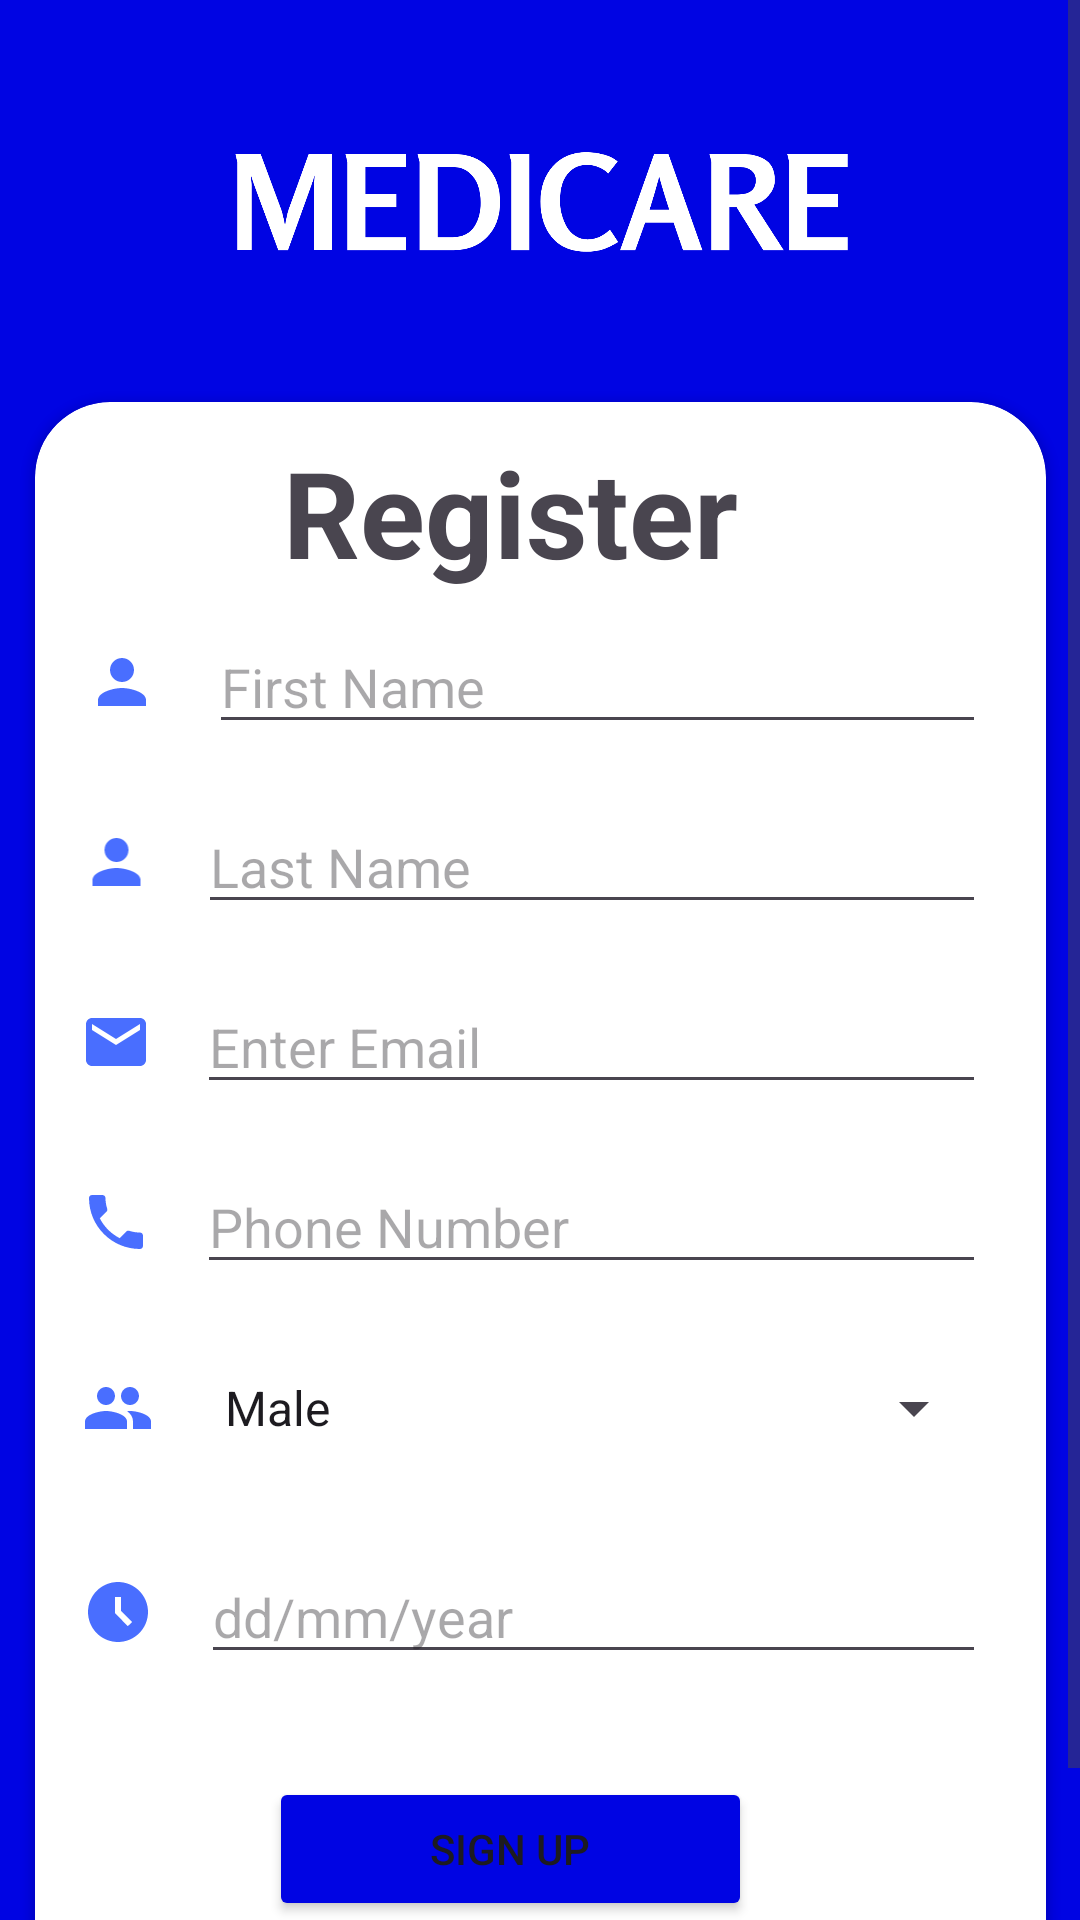

Icon click points for this 1080x1920 phone screenshot, format [x,y]:
access time: [118,1612]
local phone: [116,1222]
persona: [122,682], [116,862]
